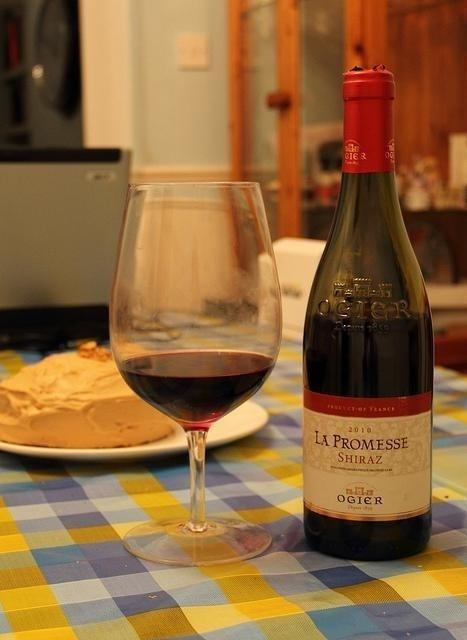bottle-glass: (305, 70, 432, 560)
glass-wine: (107, 180, 283, 567)
